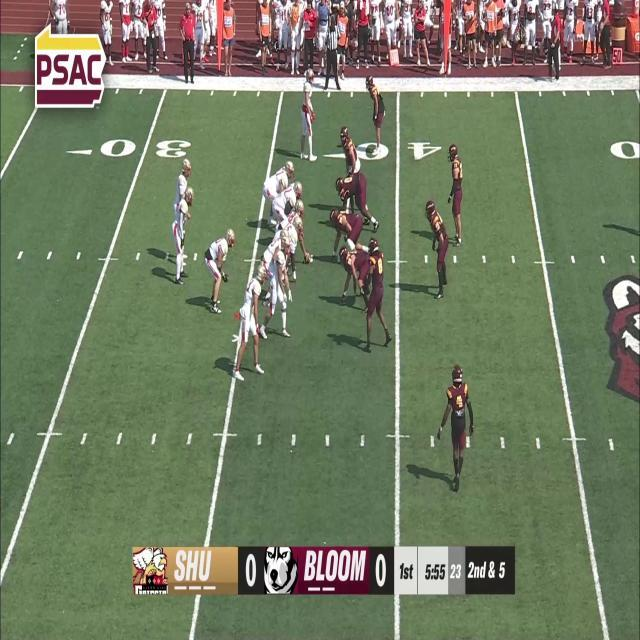football: (302, 252, 311, 264)
